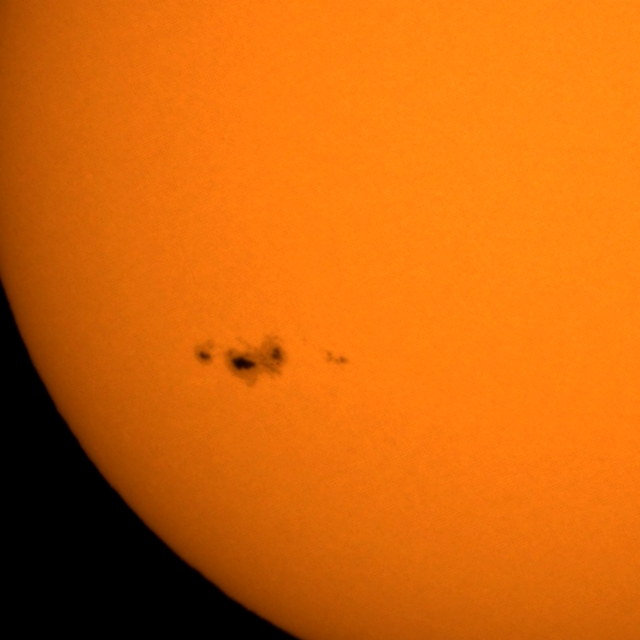sunspot: (225, 335, 291, 390), (193, 338, 217, 368), (322, 349, 349, 367)
